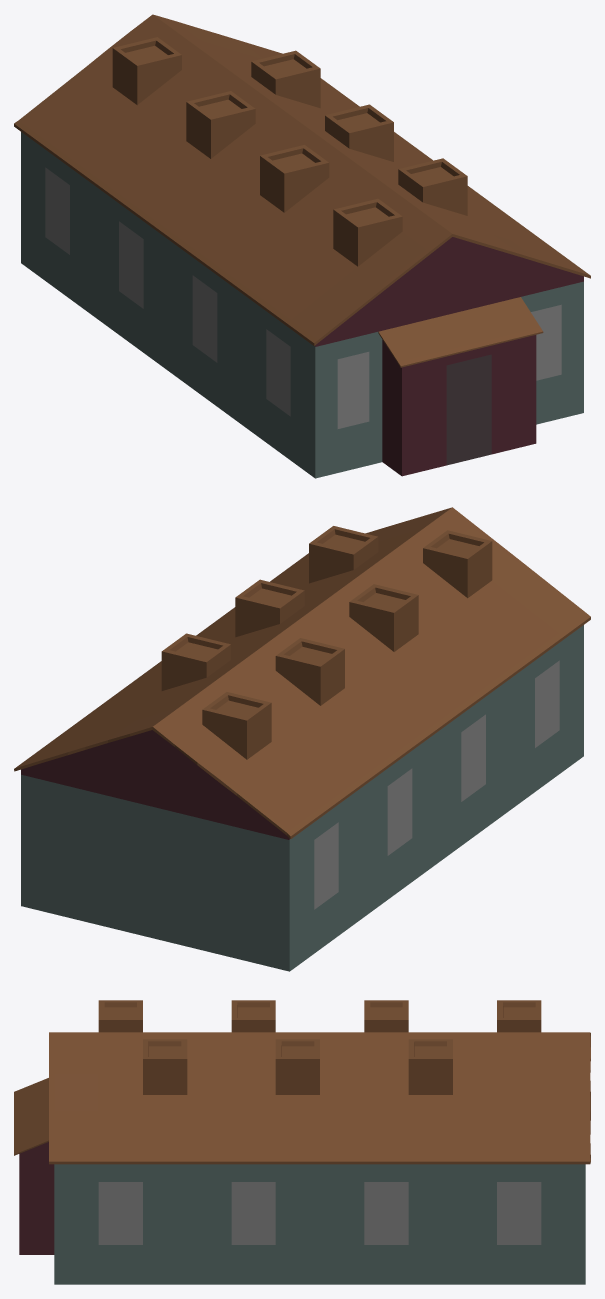
Rendered from Barrack_v01.glb.
3 views of the same model, one above another, from view 1: azimuth 30°, elevation 25°; view 2: azimuth 150°, elevation 25°; view 3: azimuth 270°, elevation 25° (orthographic). The views are drawn at different scales.
Visible parts, largest first — view 1: SM_Barrack; view 2: SM_Barrack; view 3: SM_Barrack.
Part boxes in pixels (x1,y1,x2,y2): SM_Barrack: (14,14,590,478); SM_Barrack: (14,507,590,971); SM_Barrack: (14,1000,590,1284).
Size of the model in its own units: 6.1 by 4.57 by 12.19.
